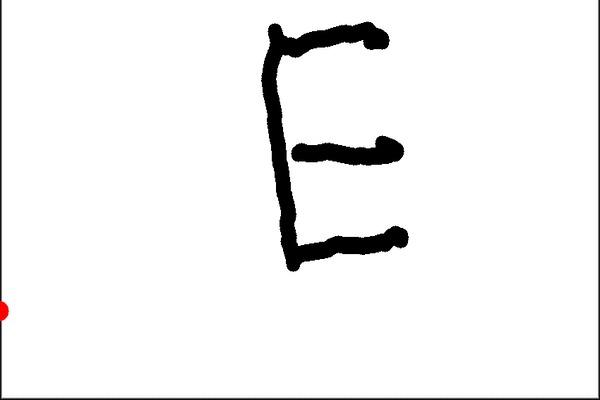E: (251, 15, 437, 272)
